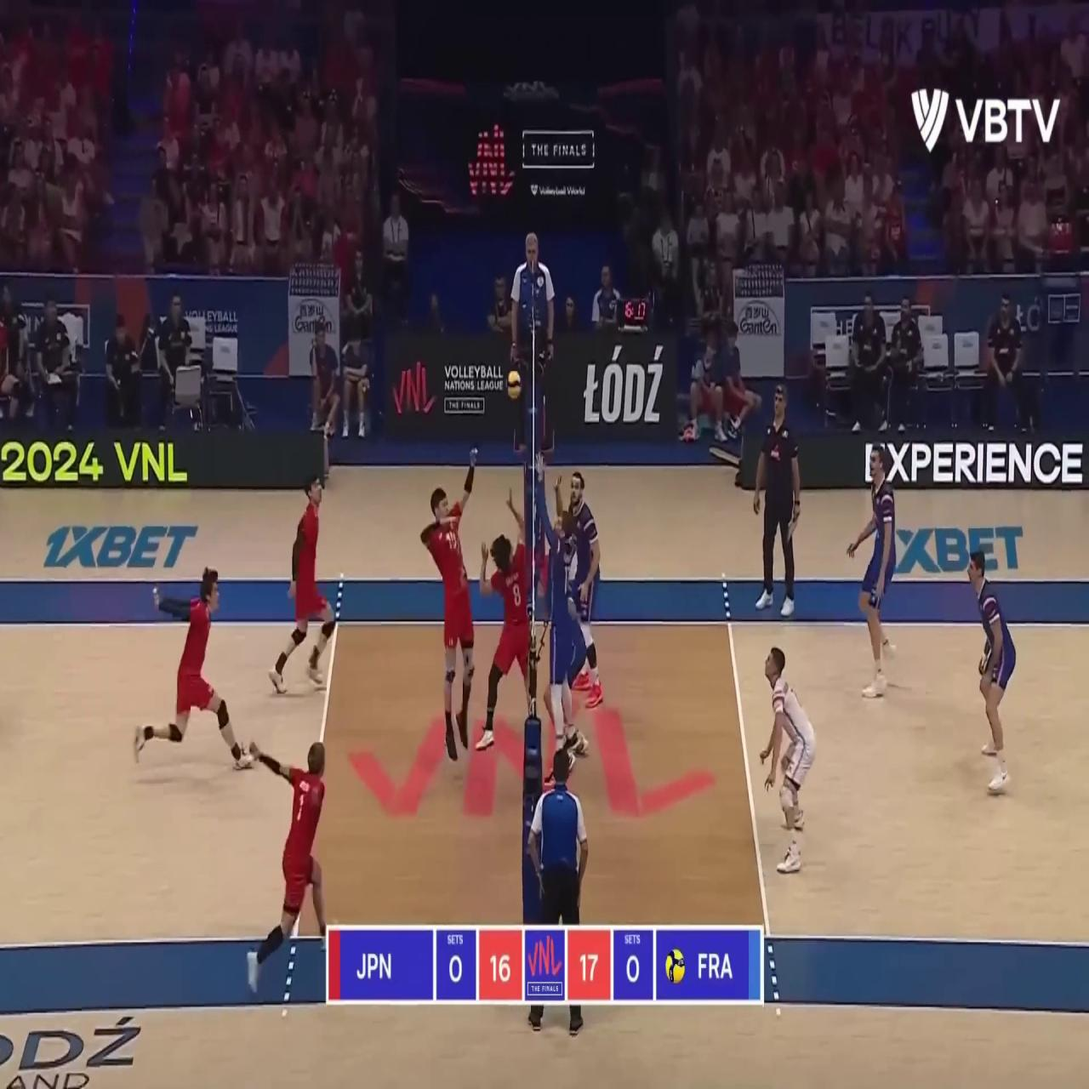ball: (507, 371, 522, 398)
